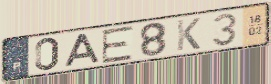0: (33, 37, 60, 72)
3: (209, 12, 240, 48)
8: (139, 21, 168, 58)
A: (62, 32, 102, 69)
E: (100, 24, 136, 65)
K: (175, 16, 202, 52)
